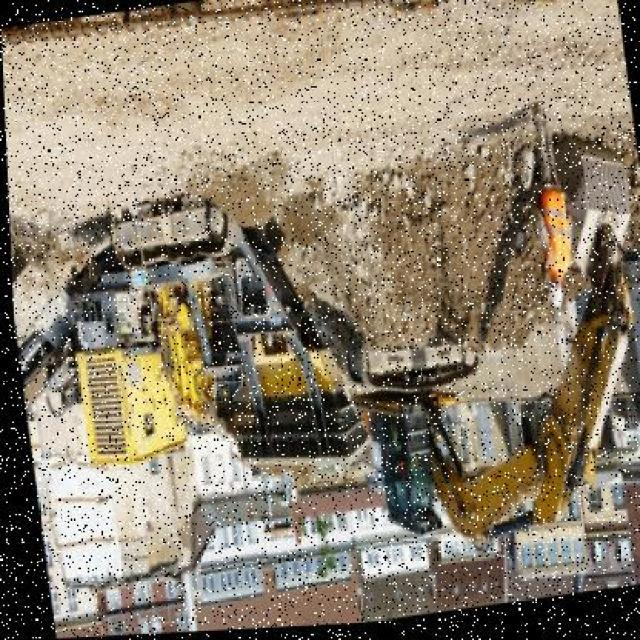helmet: (543, 277, 563, 319)
vest: (535, 193, 571, 285)
